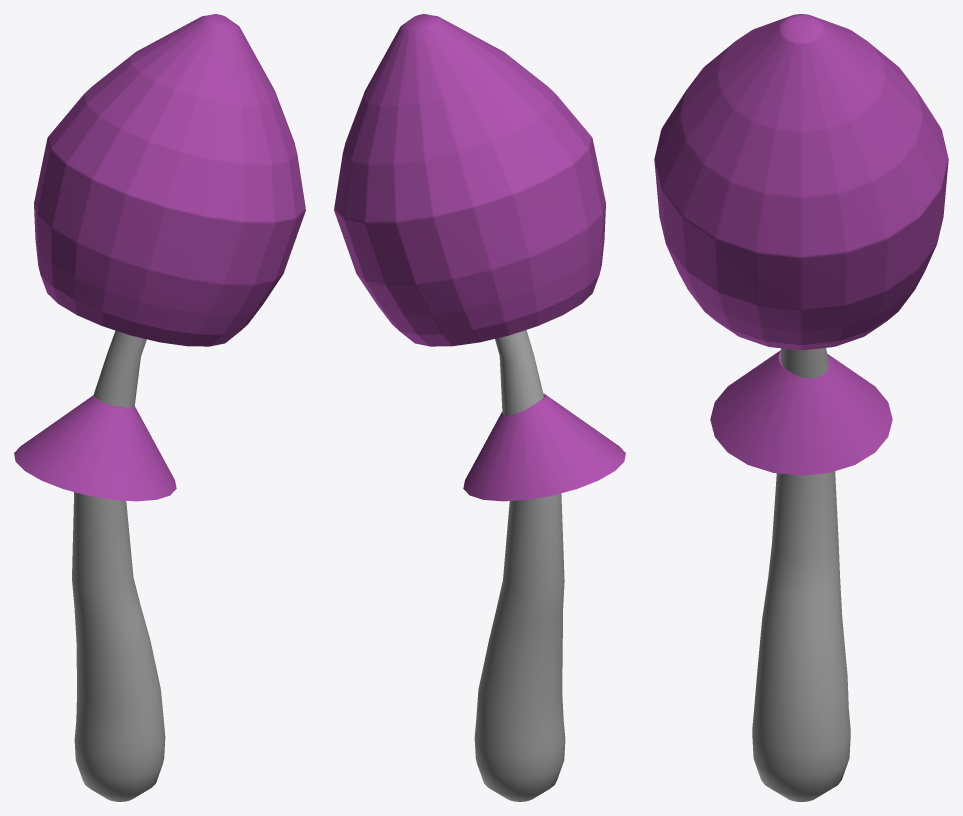
Rendered from mushroom 2.fbx.
3 renders of one model, left to right at view 1: azimuth 30°, elevation 25°; view 2: azimuth 150°, elevation 25°; view 3: azimuth 270°, elevation 25°, orthographic. The views are drawn at different scales.
Parts seen in each view (by area): view 1: mushroom_2; view 2: mushroom_2; view 3: mushroom_2.
Boxes of the visible parts, x1,y1,x2,y2 form: mushroom_2: (14,14,305,801); mushroom_2: (334,14,625,801); mushroom_2: (654,14,948,801).
Size of the model in its own units: 0.2182 by 0.1932 by 0.6006.
